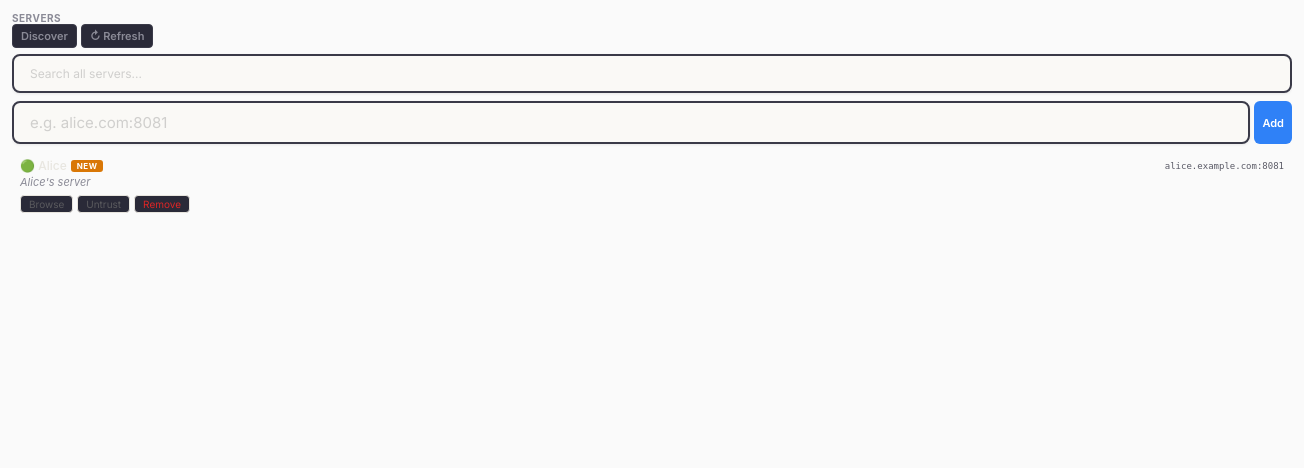
Test: ServerDirectoryPanel › shows work ID hint for cross-server linking
What coordinates should you click on to do the following:
click the button "Browse"
I would click on:
 (47, 204)
Its box is [20,195,73,213].
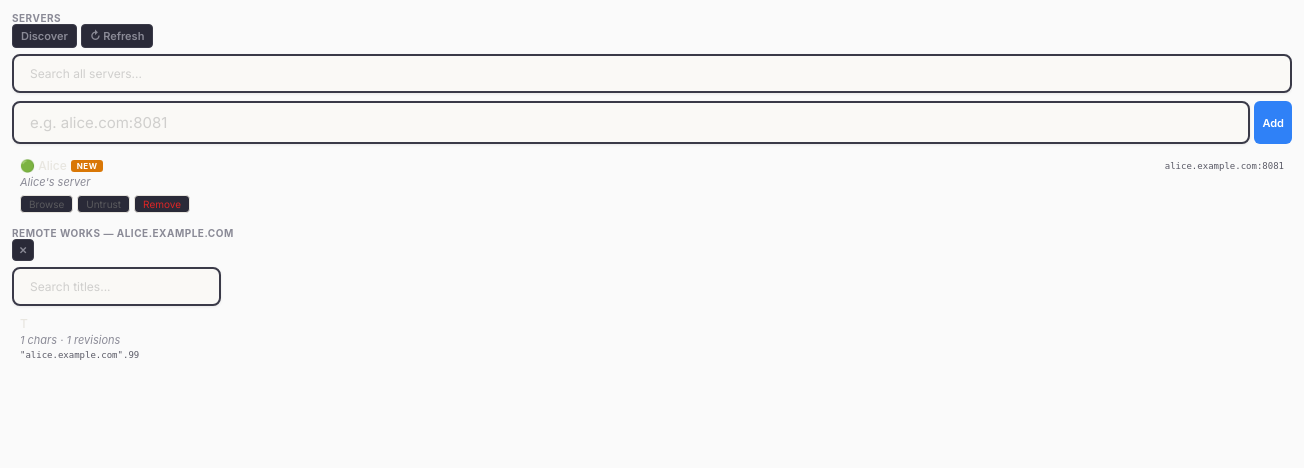
What coordinates should you click on to do the following:
click the text "T"
I would click on:
 (24, 324)
Its box is [20,316,28,331].
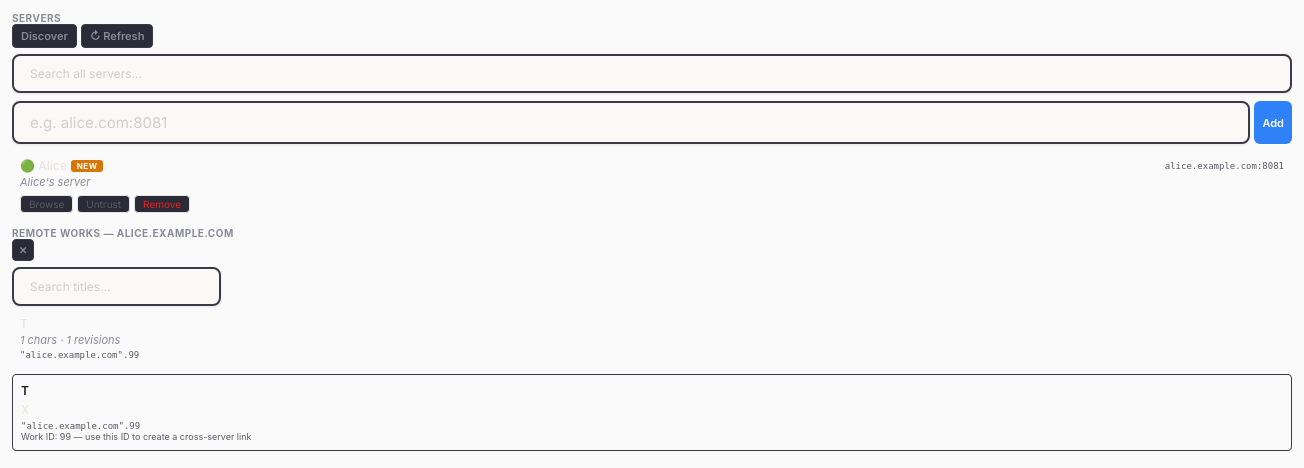
expect the text "Work ID: 99 — use this ID to create a cross-server link" is shown: met, box [21,431,252,442]
